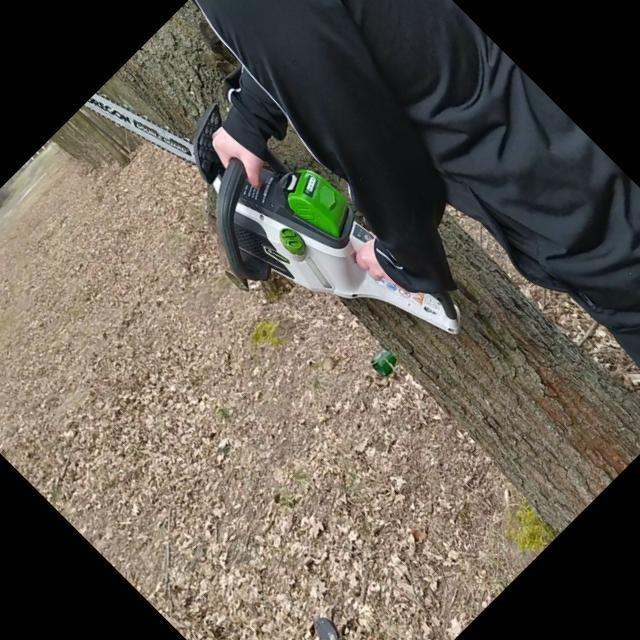Chainsaw: (73, 12, 480, 419)
